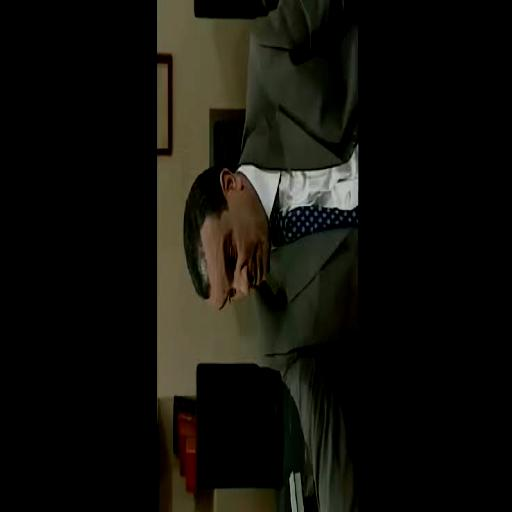slimane: (183, 168, 270, 308)
